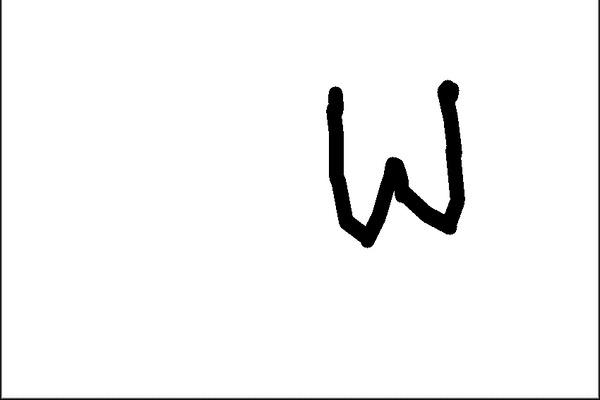w: (297, 62, 484, 265)
